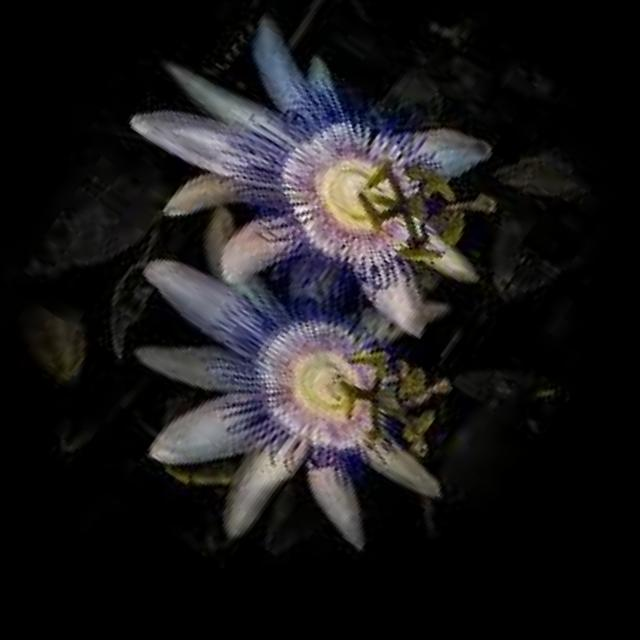Flower: (61, 168, 529, 634)
